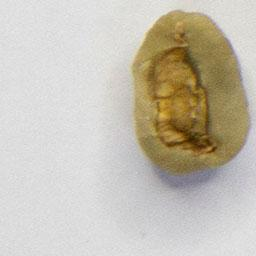defect: (125, 6, 254, 180)
